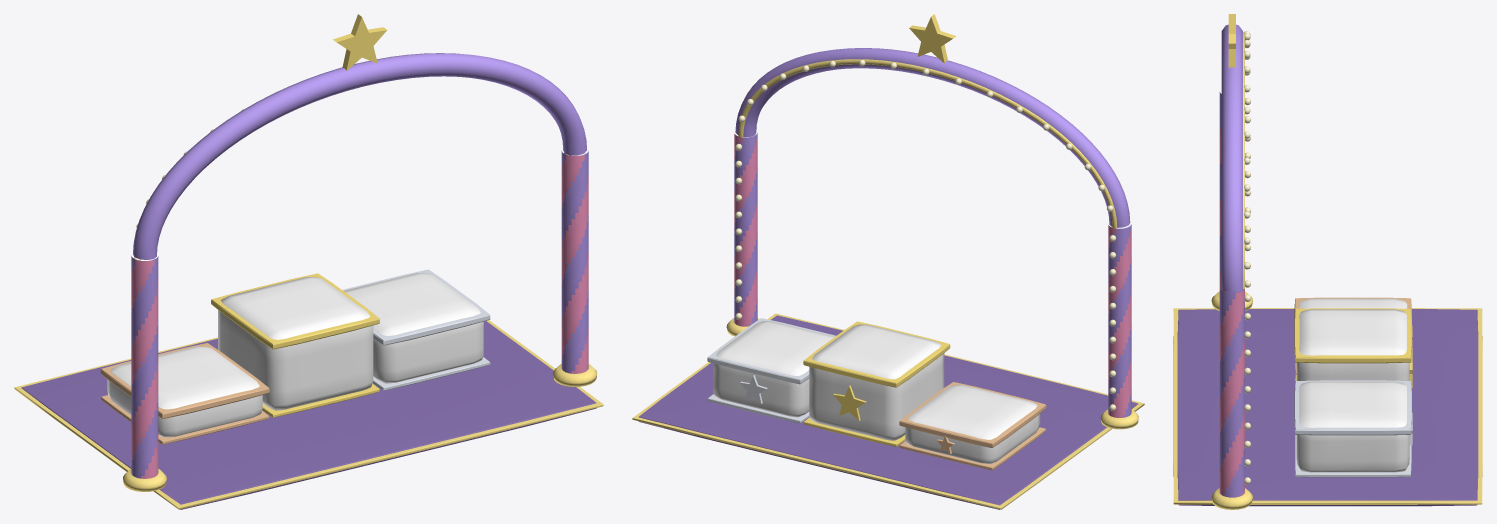
Rendered from LobbyPodium.glb.
3 renders of one model, left to right at view 1: azimuth 30°, elevation 25°; view 2: azimuth 150°, elevation 25°; view 3: azimuth 270°, elevation 25°, orthographic. The views are drawn at different scales.
Visible parts, largest first — view 1: Base, Body, Frame, Stripes, Trim, Gold, Bronze, Silver; view 2: Body, Base, Frame, Trim, Stripes, Gold, Bronze, Silver, Bulbs; view 3: Base, Body, Frame, Trim, Stripes, Silver, Gold, Bulbs, Bronze.
Part boxes in pixels (left/top/right/bottom): Base: left=21, top=321, right=596, bottom=509; Body: left=107, top=273, right=483, bottom=437; Frame: left=131, top=53, right=588, bottom=478; Stripes: left=131, top=154, right=588, bottom=478; Trim: left=14, top=320, right=603, bottom=509; Gold: left=211, top=14, right=386, bottom=417; Bronze: left=100, top=343, right=269, bottom=444; Silver: left=342, top=269, right=490, bottom=390; Body: left=713, top=321, right=1040, bottom=463; Base: left=638, top=315, right=1137, bottom=509; Frame: left=734, top=48, right=1131, bottom=417; Trim: left=632, top=59, right=1144, bottom=509; Stripes: left=734, top=133, right=1131, bottom=417; Gold: left=803, top=14, right=956, bottom=446; Bronze: left=899, top=382, right=1046, bottom=470; Silver: left=707, top=318, right=835, bottom=423; Bulbs: left=735, top=59, right=1116, bottom=410; Base: left=1177, top=309, right=1478, bottom=506; Body: left=1296, top=298, right=1409, bottom=472; Frame: left=1219, top=24, right=1244, bottom=497; Trim: left=1173, top=32, right=1482, bottom=509; Stripes: left=1219, top=92, right=1244, bottom=495; Silver: left=1294, top=380, right=1412, bottom=477; Gold: left=1228, top=14, right=1412, bottom=388; Bulbs: left=1244, top=31, right=1250, bottom=484; Bronze: left=1294, top=297, right=1412, bottom=374.
Size of the model in its own units: 40.3 by 34.9 by 24.57.
